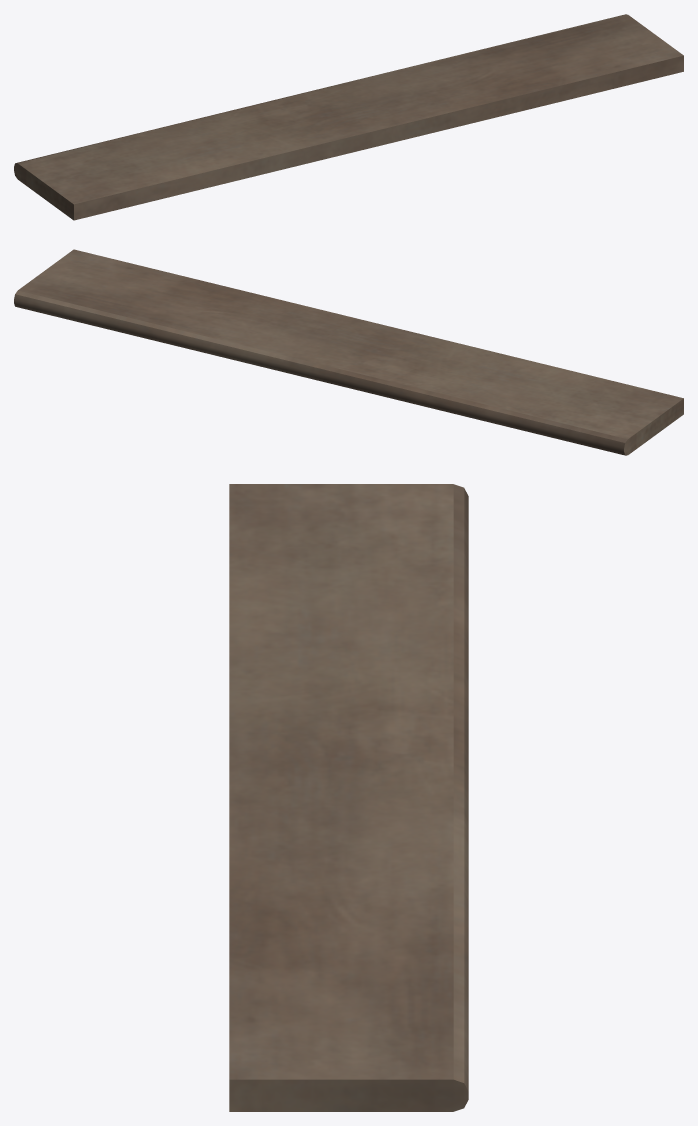
The model's file is shelf.gltf.
The picture shows the model from 3 angles, top to bottom: view 1: azimuth 30°, elevation 25°; view 2: azimuth 150°, elevation 25°; view 3: azimuth 270°, elevation 25°; orthographic projection. The views are drawn at different scales.
Visible parts, largest first — view 1: shelf; view 2: shelf; view 3: shelf.
Boxes of the visible parts, x1,y1,x2,y2 form: shelf: (14,14,683,220); shelf: (14,249,683,455); shelf: (229,484,468,1111).
Size of the model in its own units: 1.25 by 0.0316 by 0.2122.
1 material, 1 textured.
